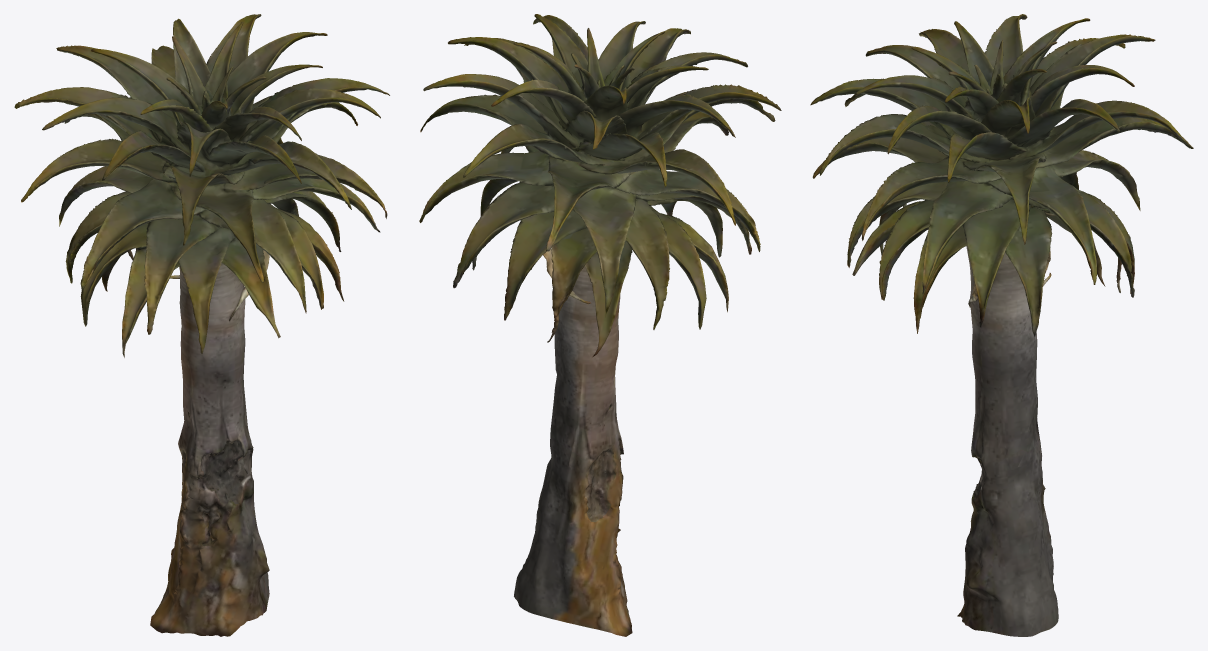
Rendered from quiver_tree_02.glb.
3 views of the same model, side by side, from view 1: azimuth 30°, elevation 25°; view 2: azimuth 150°, elevation 25°; view 3: azimuth 270°, elevation 25° (orthographic).
Parts seen in each view (by area): view 1: quiver_tree_02; view 2: quiver_tree_02; view 3: quiver_tree_02.
Part boxes in pixels (x1,y1,x2,y2): quiver_tree_02: (14,14,389,636); quiver_tree_02: (419,14,781,636); quiver_tree_02: (810,14,1193,636).
Size of the model in its own units: 0.8717 by 1.47 by 0.8809.
1 material, 1 textured.
